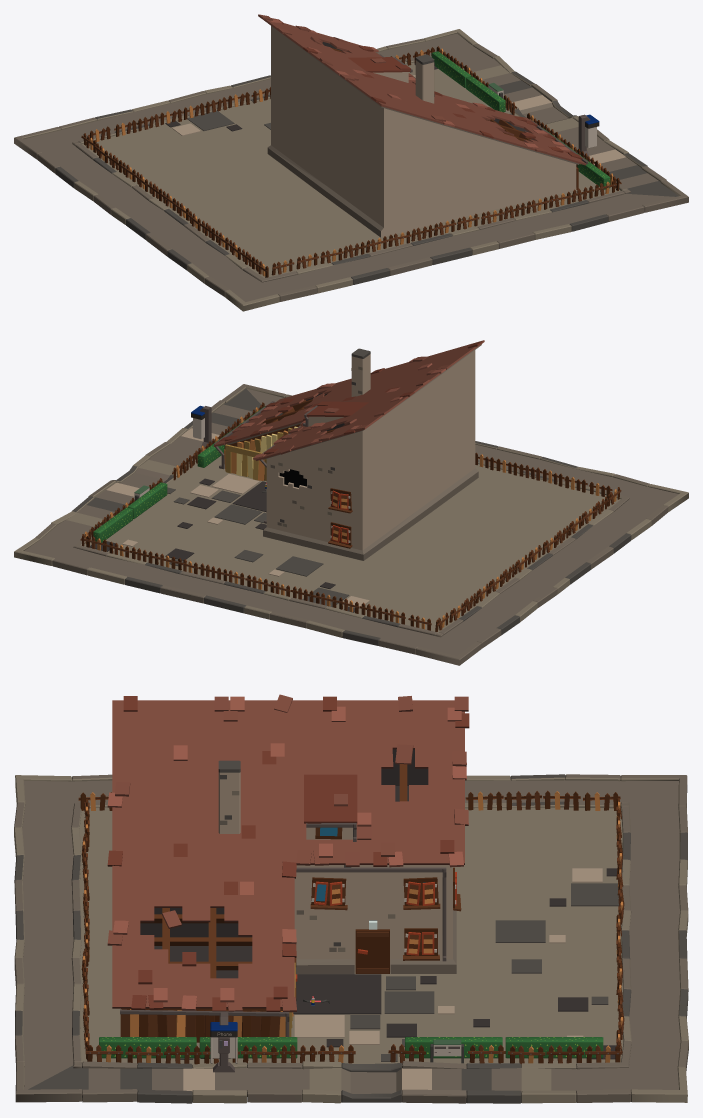
The model's file is ruin.FBX.
3 renders of one model, top to bottom at view 1: azimuth 30°, elevation 25°; view 2: azimuth 150°, elevation 25°; view 3: azimuth 270°, elevation 25°, orthographic. The views are drawn at different scales.
Visible parts, largest first — view 1: house; view 2: house; view 3: house.
Part boxes in pixels (<box>): house: <box>14,14,688,311</box>; house: <box>14,340,688,665</box>; house: <box>14,694,688,1103</box>.
Bounding box in the file's own units: 43.13 × 13.3 × 38.33.
1 material, 1 textured.
